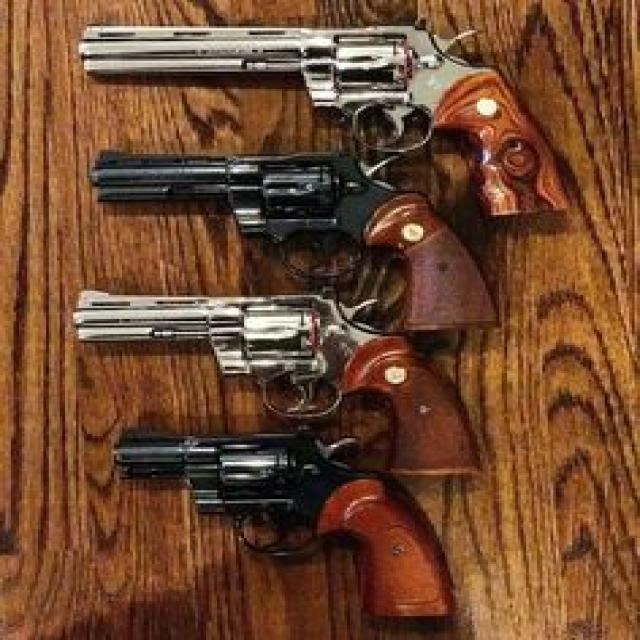revolver: (64, 401, 530, 640)
